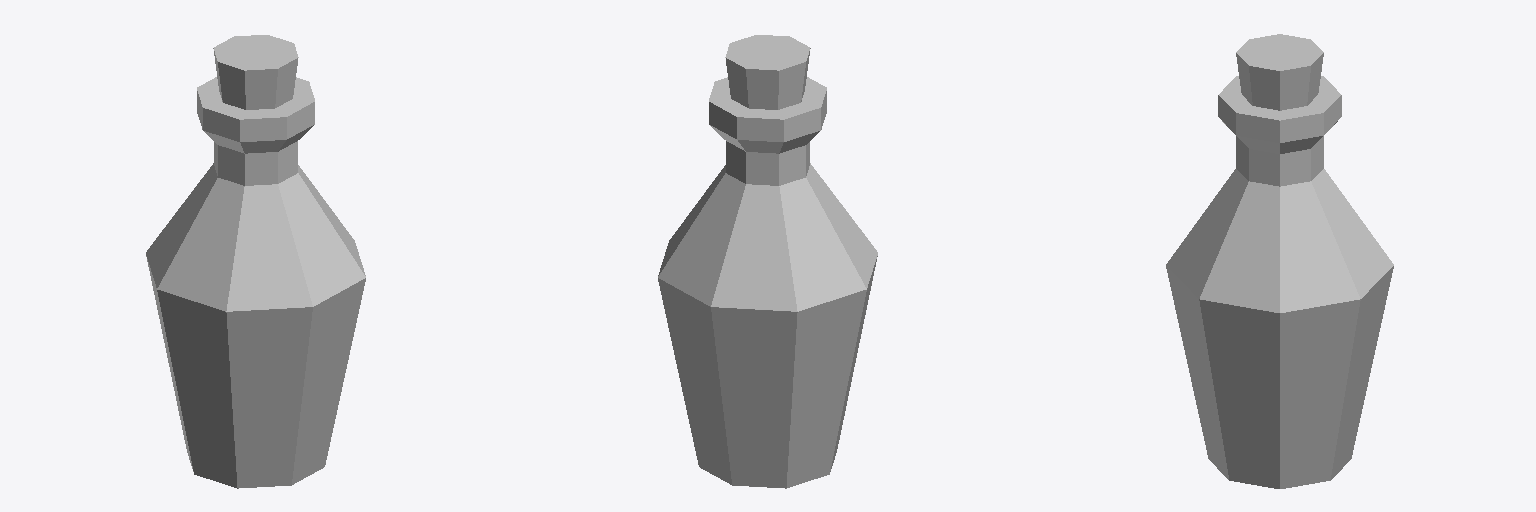
File: potion.obj
3 renders of one model, left to right at view 1: azimuth 30°, elevation 25°; view 2: azimuth 150°, elevation 25°; view 3: azimuth 270°, elevation 25°, orthographic.
Parts seen in each view (by area): view 1: red4_Cylinder.004; view 2: red4_Cylinder.004; view 3: red4_Cylinder.004.
Part boxes in pixels (bbox=[...]): red4_Cylinder.004: bbox=[146, 35, 365, 488]; red4_Cylinder.004: bbox=[658, 35, 877, 488]; red4_Cylinder.004: bbox=[1166, 34, 1393, 488].
Bounding box in the file's own units: 1.28 × 2.51 × 1.28.